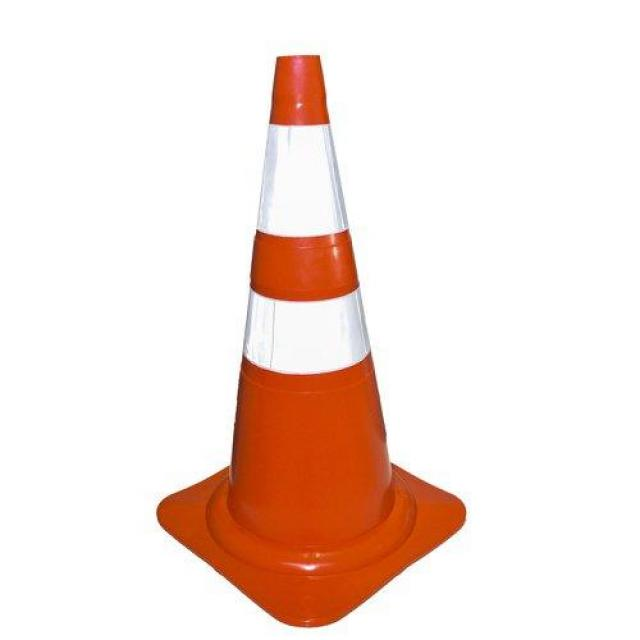cone: (150, 56, 467, 633)
